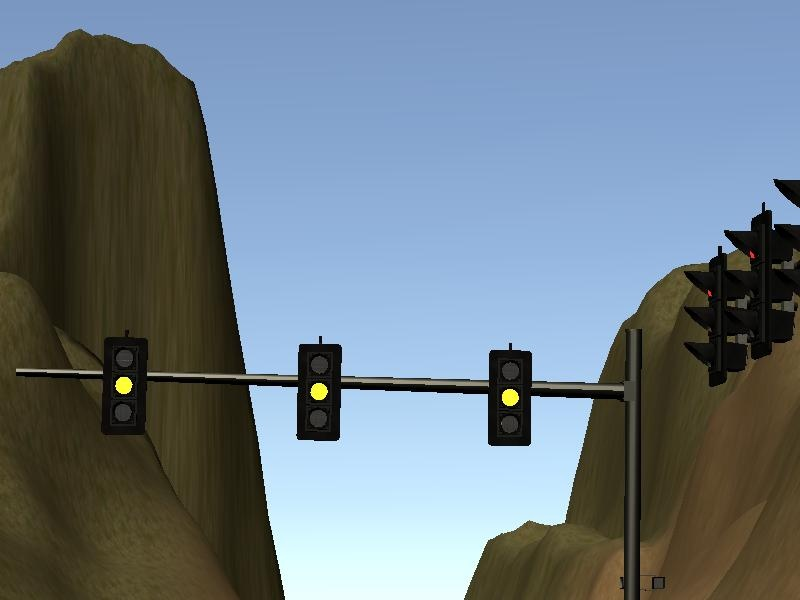YELLOW: (295, 342, 344, 444), (100, 336, 146, 433), (485, 348, 531, 445)
